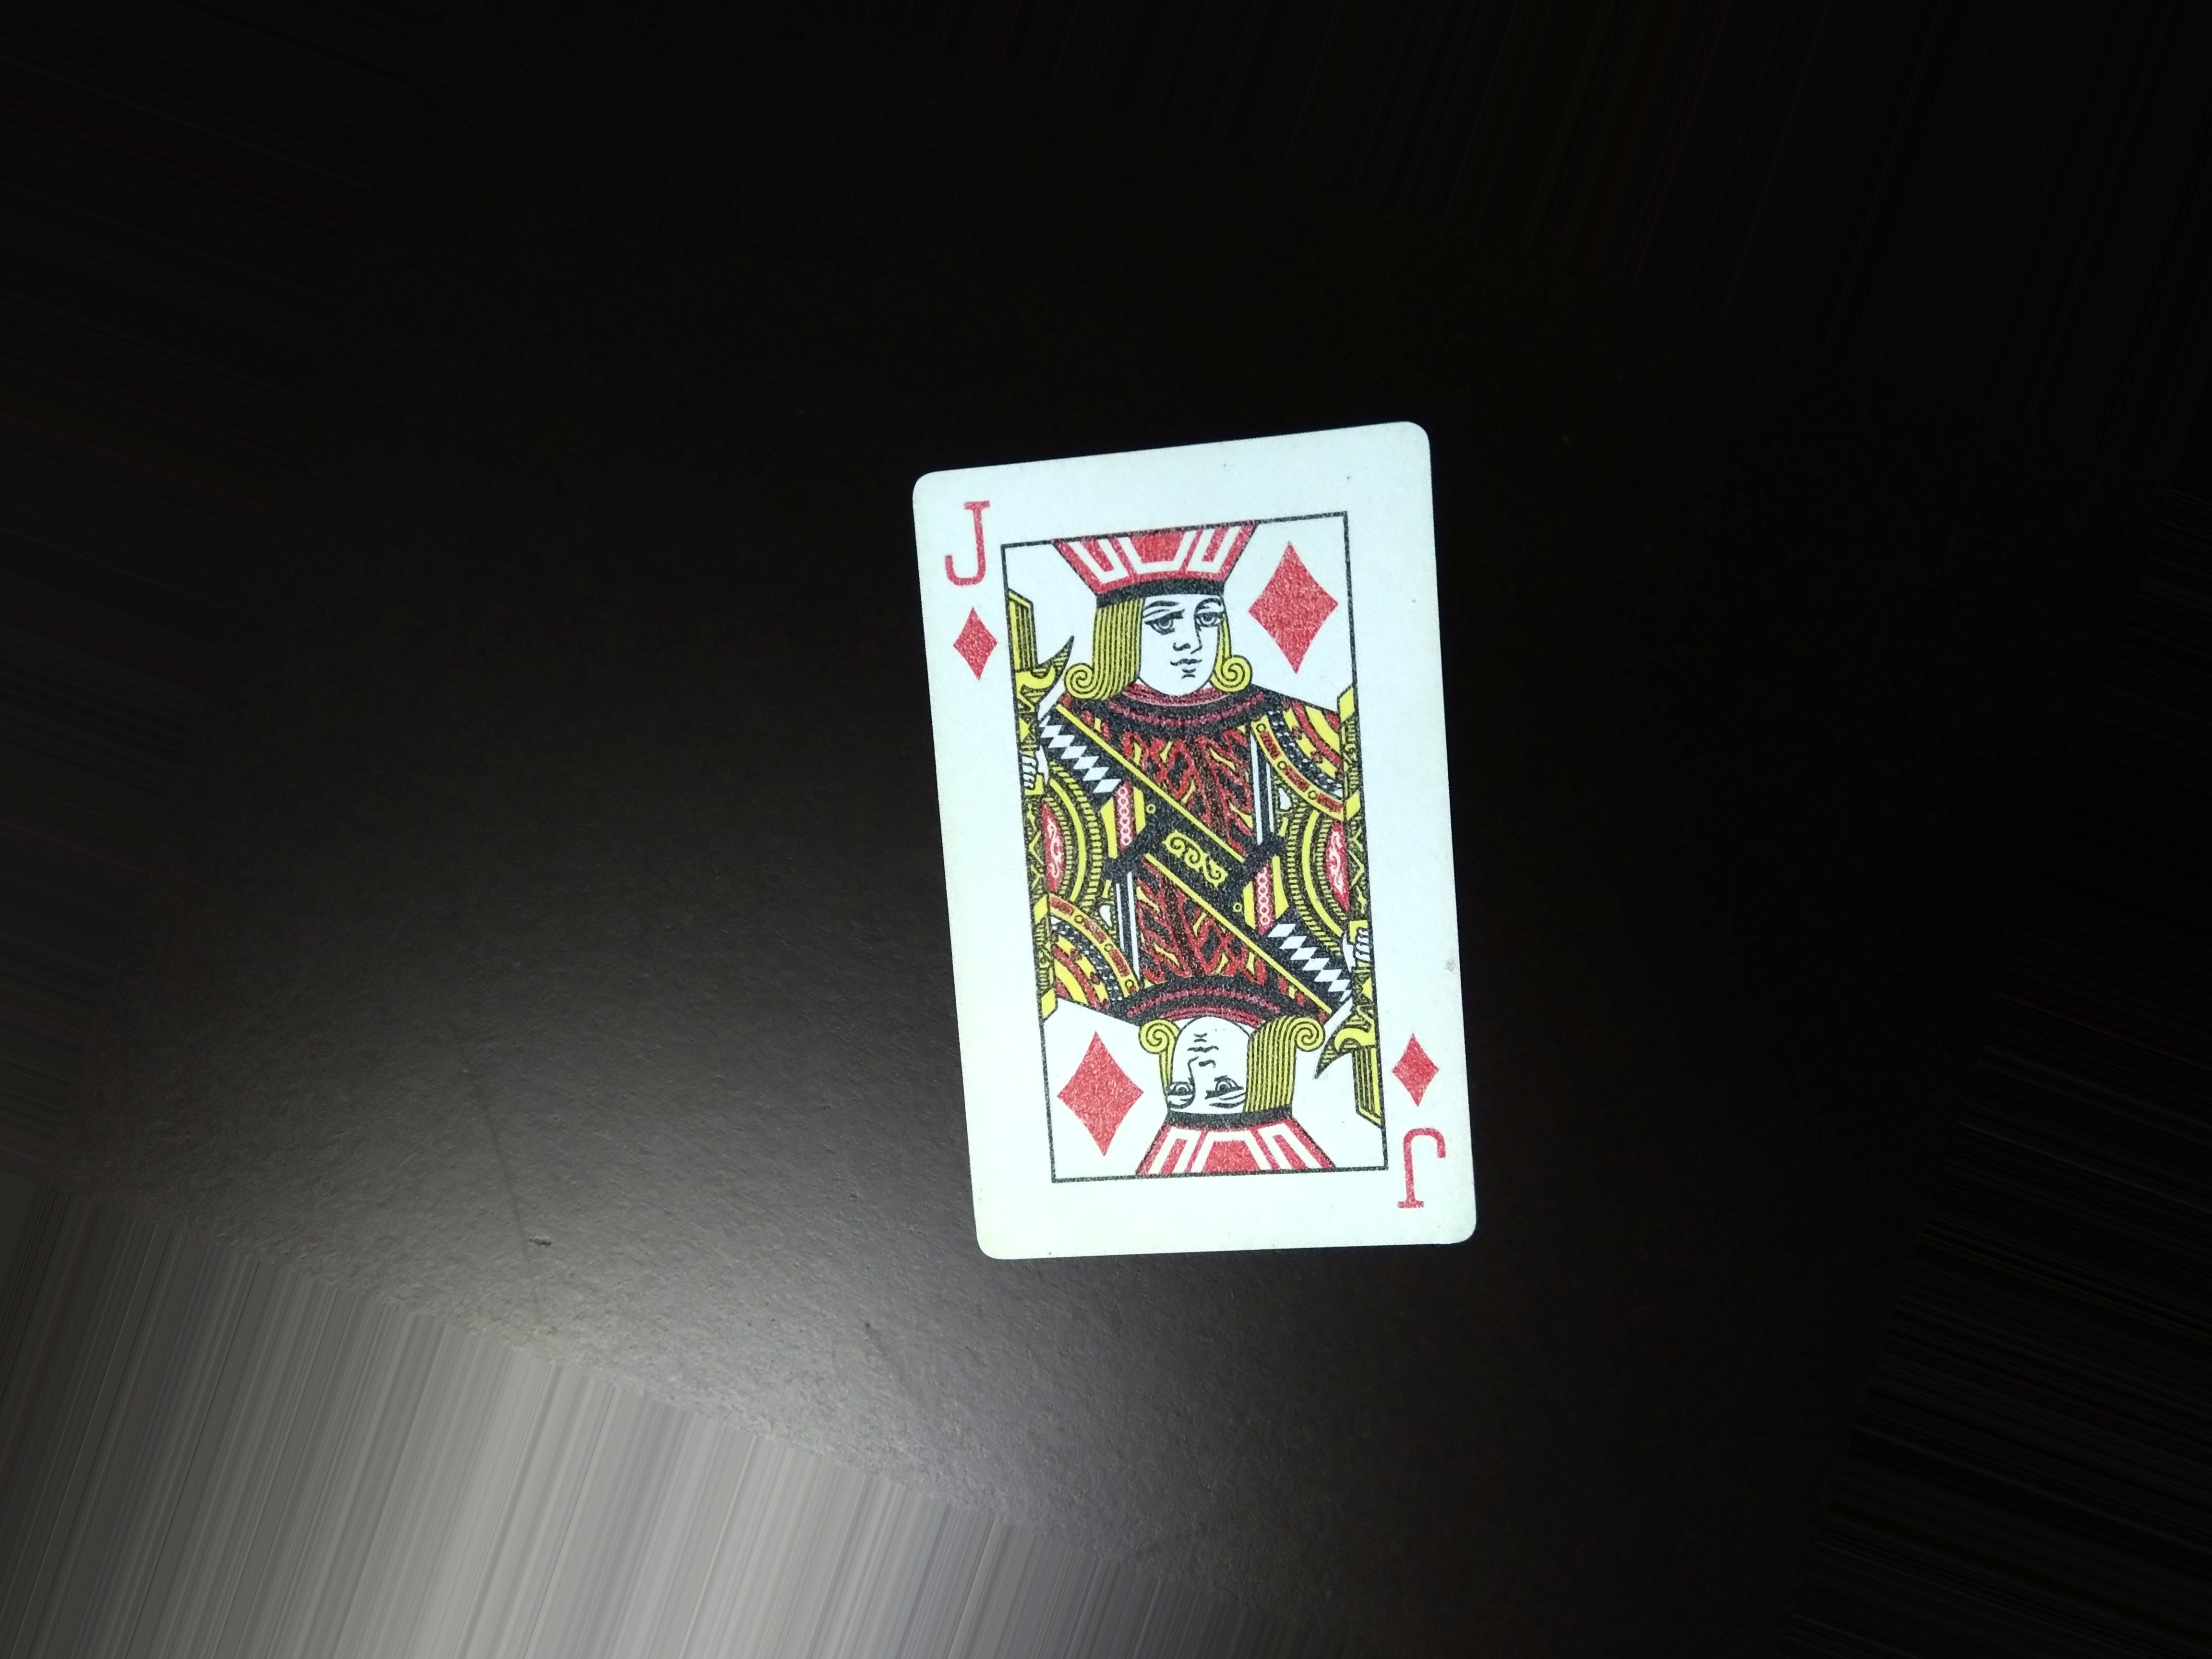JD: (939, 490, 1010, 704)
